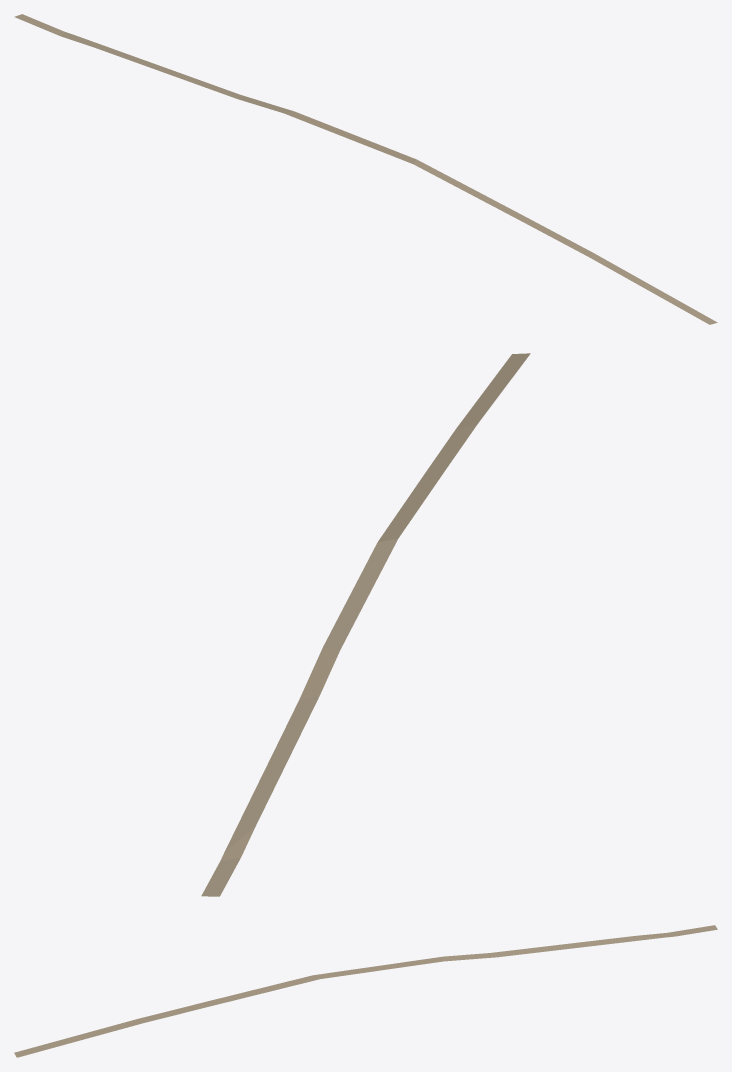
File: farm_-19_-27_track.glb
3 views of the same model, one above another, from view 1: azimuth 30°, elevation 25°; view 2: azimuth 150°, elevation 25°; view 3: azimuth 270°, elevation 25° (orthographic). The views are drawn at different scales.
Parts seen in each view (by area): view 1: geometry_0; view 2: geometry_0; view 3: geometry_0.
Part boxes in pixels (left/top/right/bottom): geometry_0: left=14, top=14, right=717, bottom=324; geometry_0: left=201, top=353, right=530, bottom=896; geometry_0: left=14, top=925, right=717, bottom=1057.
Bounding box in the file's own units: 80.03 × 14.75 × 240.
